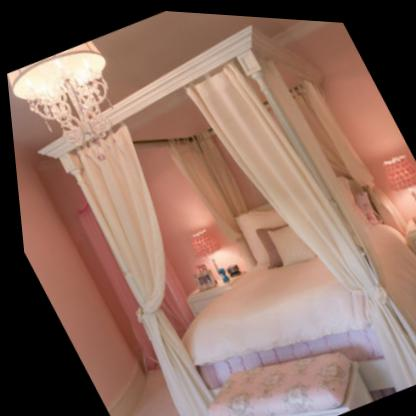Curtains: (181, 52, 416, 386), (41, 121, 206, 416)
